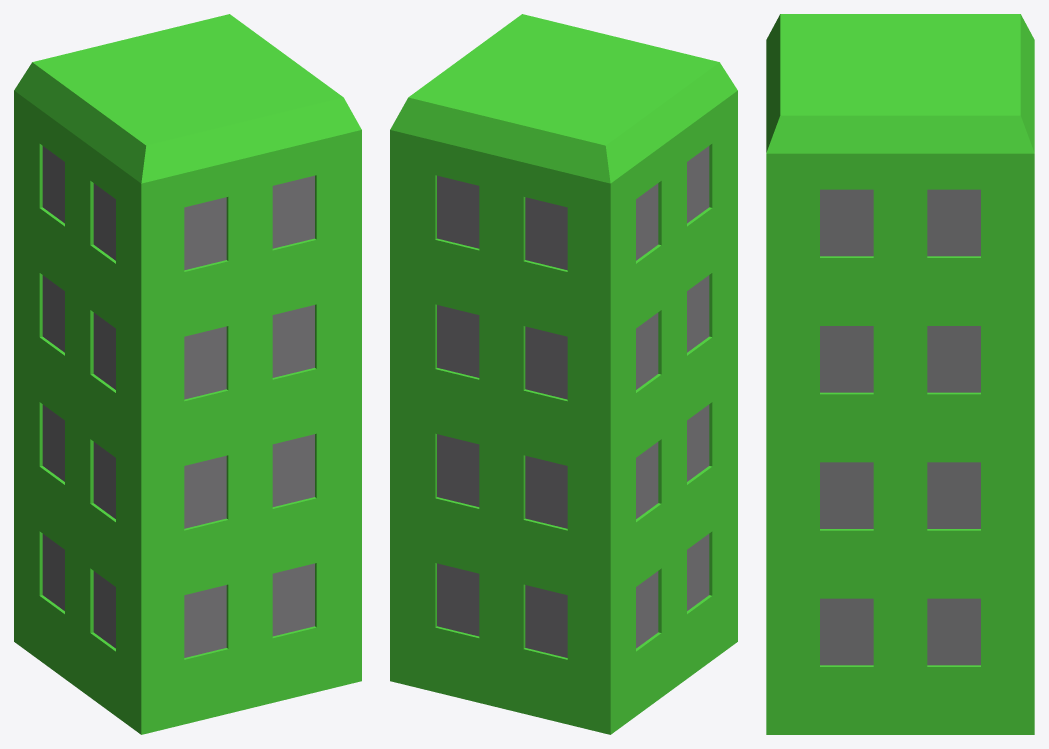
The model's file is GreenSkyscraper.fbx.
The picture shows the model from 3 angles, left to right: view 1: azimuth 30°, elevation 25°; view 2: azimuth 150°, elevation 25°; view 3: azimuth 270°, elevation 25°; orthographic projection. The views are drawn at different scales.
Visible parts, largest first — view 1: Building.001; view 2: Building.001; view 3: Building.001.
Part boxes in pixels (box(x1,y1,x2,y2)): Building.001: box(14, 14, 361, 734); Building.001: box(390, 14, 737, 734); Building.001: box(766, 14, 1034, 734).
Bounding box in the file's own units: 10 × 25.21 × 10.
